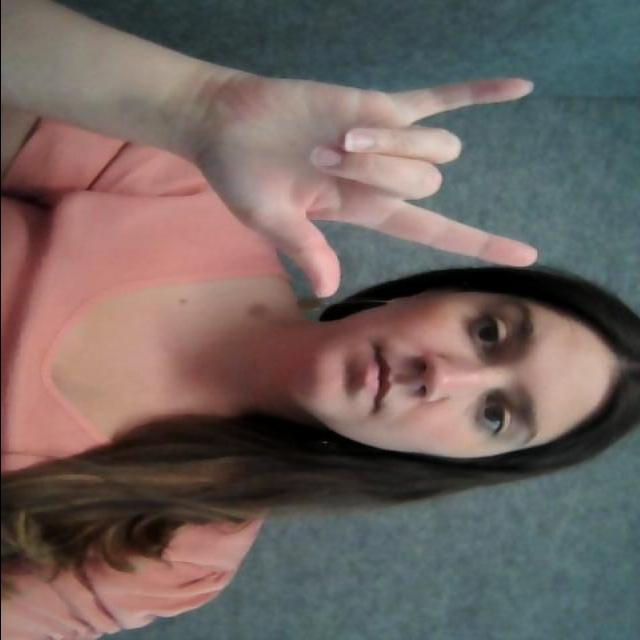Rock: (140, 56, 560, 295)
